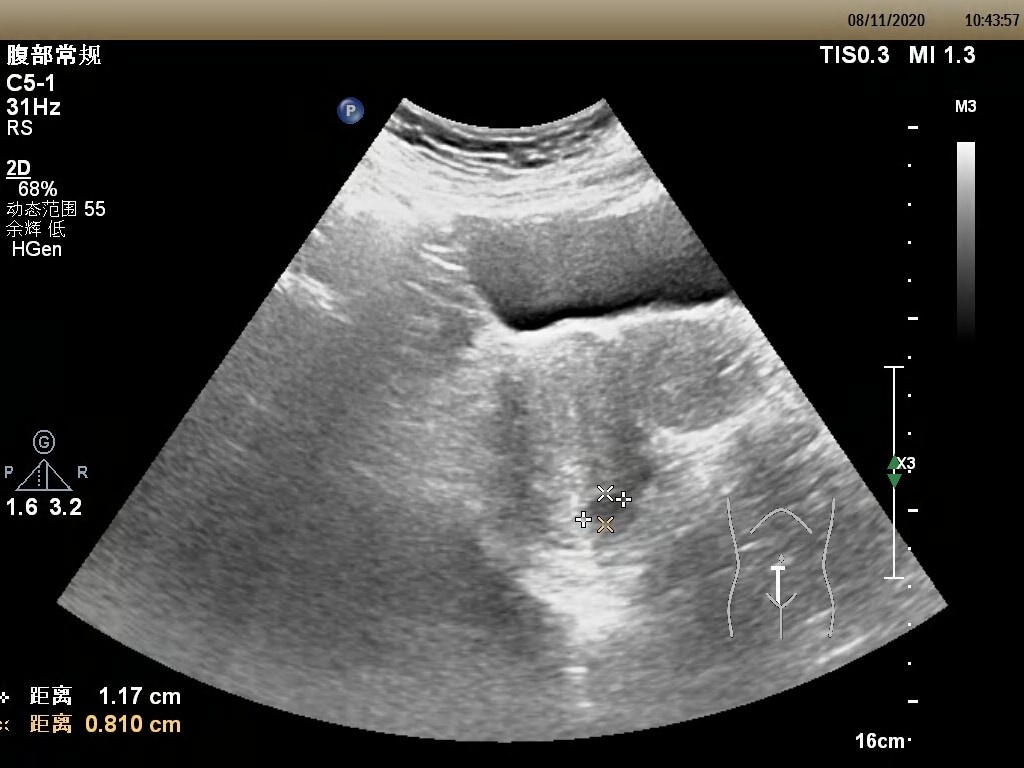肌瘤: (585, 492, 625, 526)
